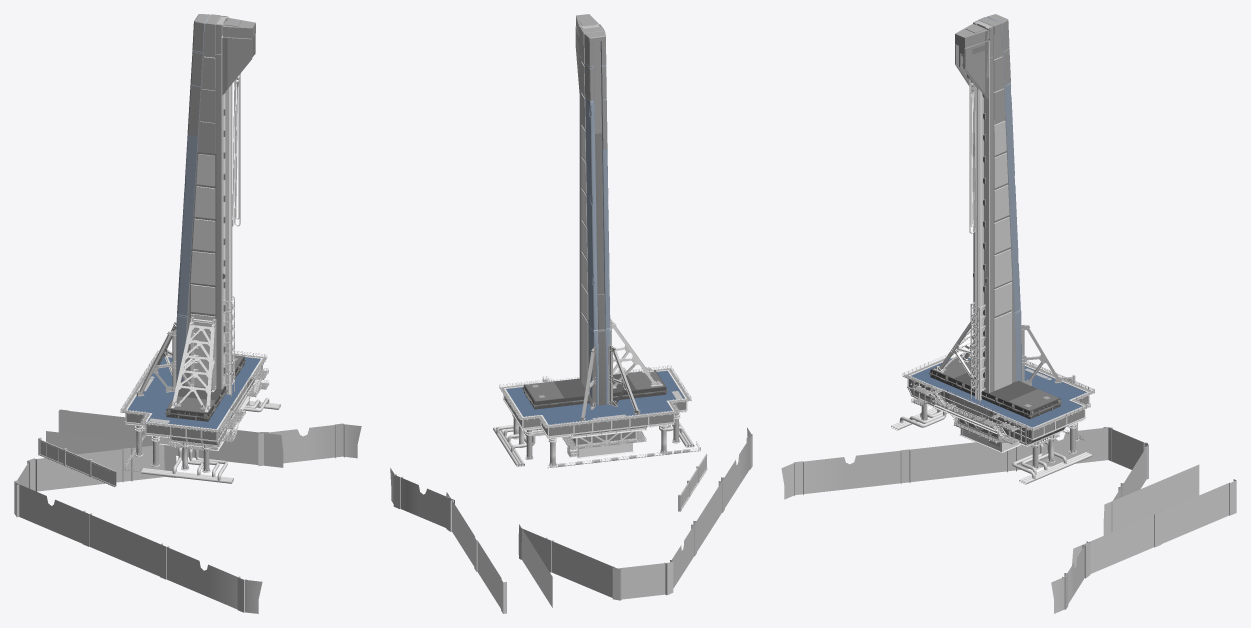
The model's file is cell_163_103.fbx.
3 renders of one model, left to right at view 1: azimuth 30°, elevation 25°; view 2: azimuth 150°, elevation 25°; view 3: azimuth 270°, elevation 25°, orthographic. The views are drawn at different scales.
Visible parts, largest first — view 1: SM_H_Industrial_ISS_LaunchLauncher_01C.mo.003, SM_I_RoadFacility_Ground_L_02f_Decal.mo, SM_H_Industrial_ISS_LaunchLauncher_01B.mo.003, SM_H_Industrial_ISS_LaunchLauncher_01K.mo.005, SM_I_RoadFacility_Ground_L_19.mo, SM_H_Industrial_ISS_LaunchLauncher_01N.mo, SM_H_Fence_SoundproofWall_02.mo.015; view 2: SM_H_Industrial_ISS_LaunchLauncher_01C.mo.003, SM_I_RoadFacility_Ground_L_02f_Decal.mo, SM_H_Industrial_ISS_LaunchLauncher_01B.mo.003, SM_I_RoadFacility_Ground_L_19.mo, SM_H_Industrial_ISS_LaunchLauncher_01O.mo, SM_H_Industrial_ISS_LaunchLauncher_01K.mo.005; view 3: SM_H_Industrial_ISS_LaunchLauncher_01C.mo.003, SM_I_RoadFacility_Ground_L_02f_Decal.mo, SM_H_Industrial_ISS_LaunchLauncher_01B.mo.003, SM_H_Industrial_ISS_LaunchLauncher_01N.mo, SM_I_RoadFacility_Ground_L_19.mo, SM_H_Industrial_ISS_LaunchLauncher_01K.mo.005.
Boxes of the visible parts, left/top/right/bottom form: SM_H_Industrial_ISS_LaunchLauncher_01C.mo.003: left=136, top=14, right=255, bottom=421; SM_I_RoadFacility_Ground_L_02f_Decal.mo: left=14, top=409, right=361, bottom=613; SM_H_Industrial_ISS_LaunchLauncher_01B.mo.003: left=122, top=353, right=268, bottom=472; SM_H_Industrial_ISS_LaunchLauncher_01K.mo.005: left=171, top=316, right=216, bottom=412; SM_I_RoadFacility_Ground_L_19.mo: left=141, top=398, right=280, bottom=483; SM_H_Industrial_ISS_LaunchLauncher_01N.mo: left=140, top=351, right=269, bottom=450; SM_H_Fence_SoundproofWall_02.mo.015: left=89, top=459, right=116, bottom=487; SM_H_Industrial_ISS_LaunchLauncher_01C.mo.003: left=522, top=14, right=667, bottom=421; SM_I_RoadFacility_Ground_L_02f_Decal.mo: left=390, top=427, right=752, bottom=613; SM_H_Industrial_ISS_LaunchLauncher_01B.mo.003: left=500, top=368, right=690, bottom=466; SM_I_RoadFacility_Ground_L_19.mo: left=493, top=421, right=694, bottom=467; SM_H_Industrial_ISS_LaunchLauncher_01O.mo: left=520, top=398, right=691, bottom=450; SM_H_Industrial_ISS_LaunchLauncher_01K.mo.005: left=610, top=315, right=662, bottom=388; SM_H_Industrial_ISS_LaunchLauncher_01C.mo.003: left=928, top=14, right=1062, bottom=419; SM_I_RoadFacility_Ground_L_02f_Decal.mo: left=781, top=427, right=1236, bottom=613; SM_H_Industrial_ISS_LaunchLauncher_01B.mo.003: left=904, top=353, right=1093, bottom=469; SM_H_Industrial_ISS_LaunchLauncher_01N.mo: left=902, top=351, right=1090, bottom=446; SM_I_RoadFacility_Ground_L_19.mo: left=891, top=408, right=1091, bottom=484; SM_H_Industrial_ISS_LaunchLauncher_01K.mo.005: left=933, top=316, right=973, bottom=382.
Size of the model in its own units: 98.52 by 149 by 122.
